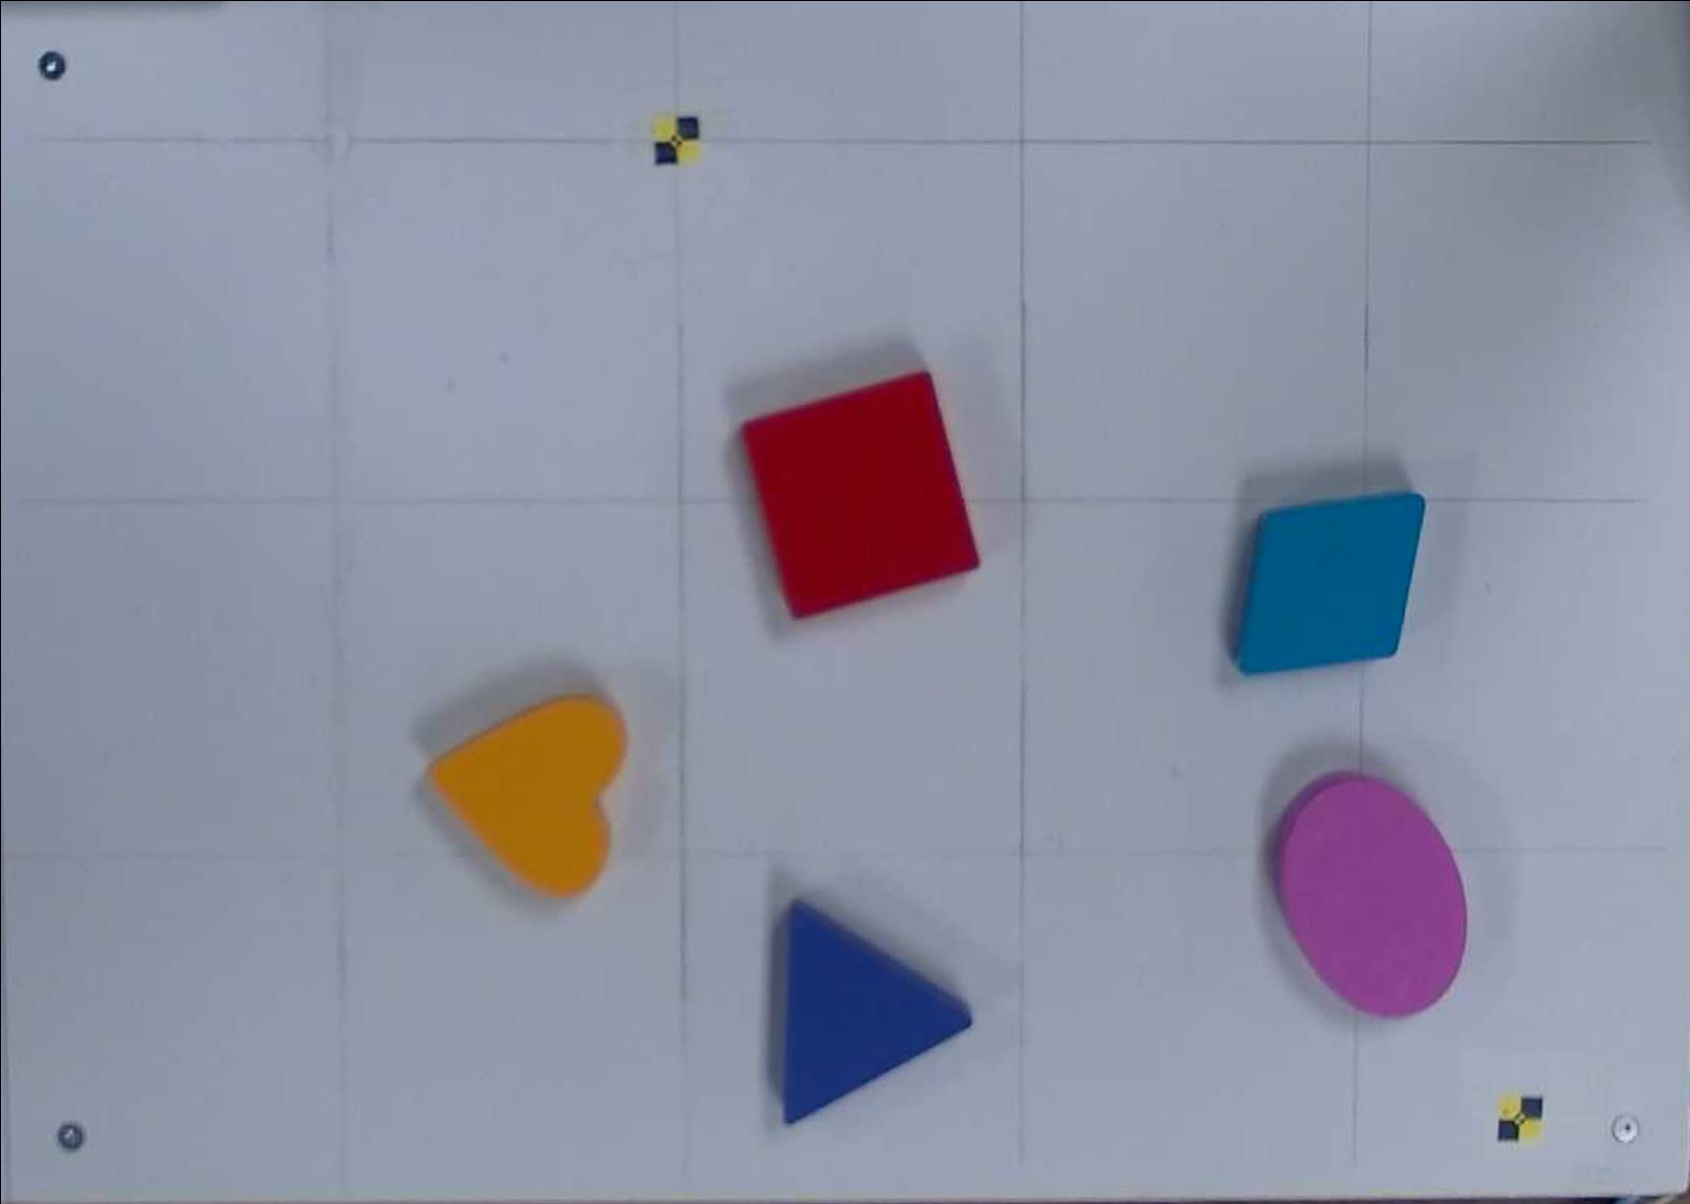Ellipse: (1274, 773, 1468, 1020)
Heart: (427, 697, 628, 899)
Parallelogram: (1233, 494, 1425, 678)
Square: (741, 371, 981, 619)
Triangle: (787, 899, 973, 1127)
